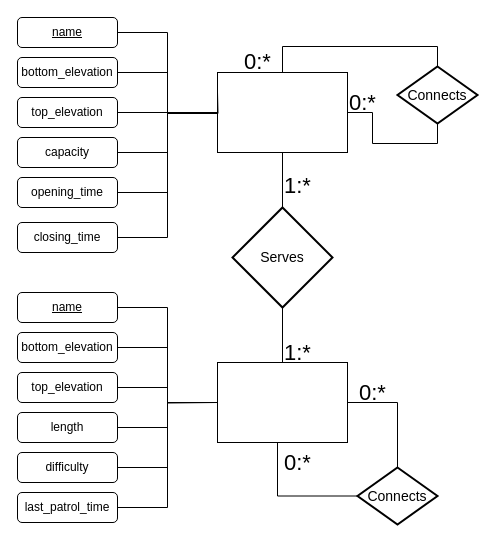
The diagram is 496 pixels wide and 543 high, and some of its shapes have lost their labels. The centre of each missing label's shape, as x and y in pixels:
"Ski Lift" belongs at point (282, 112).
"Ski run" belongs at point (282, 402).
